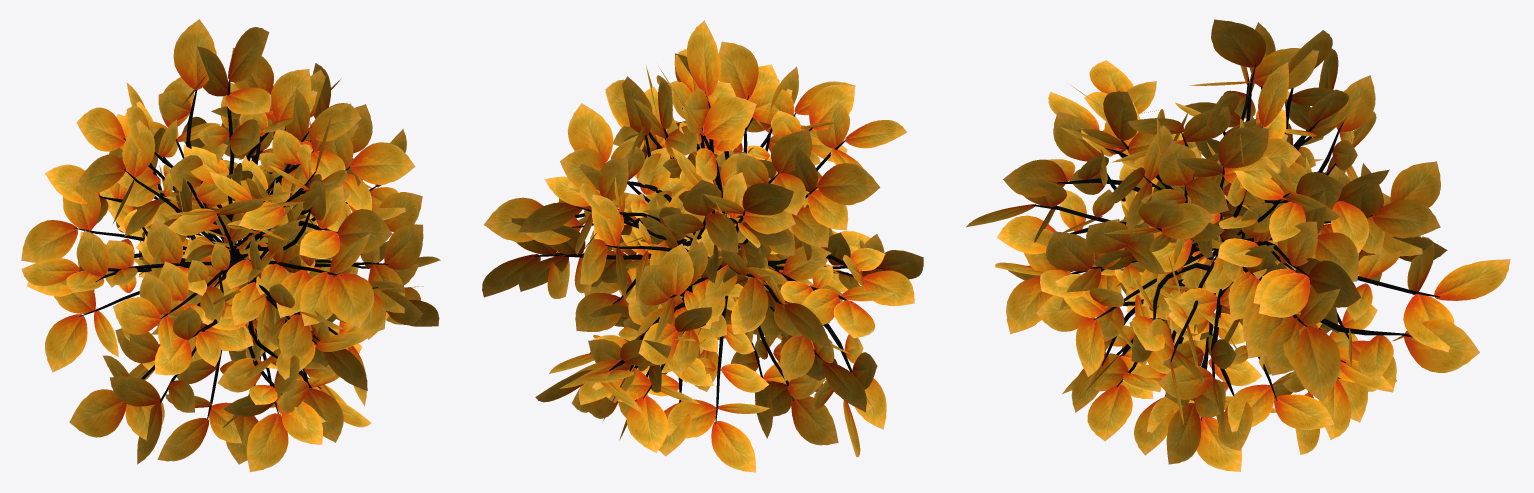
The model's file is yellowbush7.fbx.
3 renders of one model, left to right at view 1: azimuth 30°, elevation 25°; view 2: azimuth 150°, elevation 25°; view 3: azimuth 270°, elevation 25°, orthographic. The views are drawn at different scales.
Parts seen in each view (by area): view 1: pCylinder956; view 2: pCylinder956; view 3: pCylinder956.
Part boxes in pixels (x1=…): pCylinder956: x1=21, y1=19, x2=440, y2=472; pCylinder956: x1=482, y1=20, x2=923, y2=472; pCylinder956: x1=966, y1=19, x2=1510, y2=471.
Bounding box in the file's own units: 15.67 × 16.28 × 18.28.
